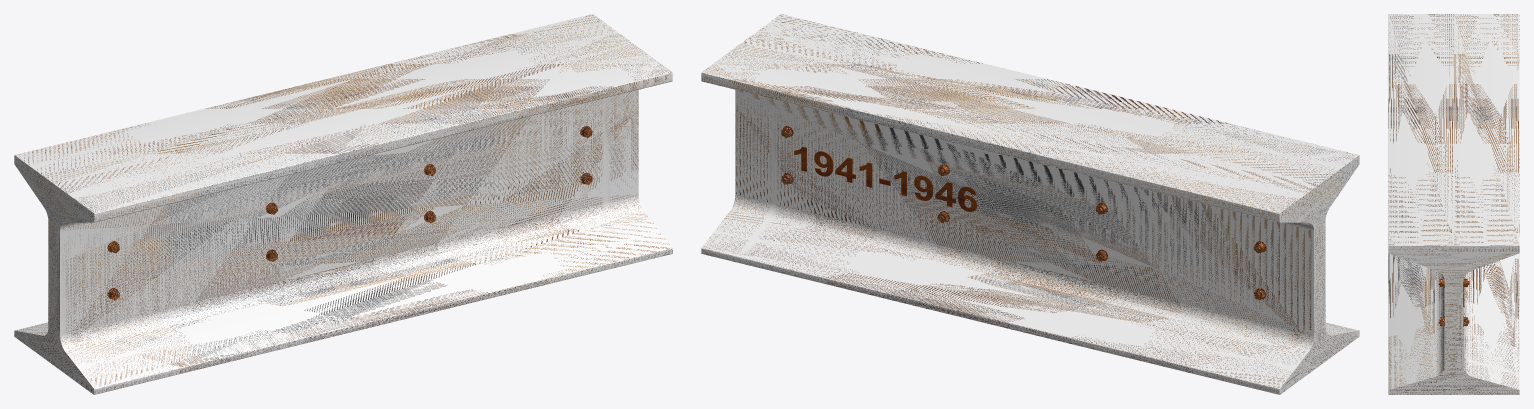
The picture shows the model from 3 angles, left to right: view 1: azimuth 30°, elevation 25°; view 2: azimuth 150°, elevation 25°; view 3: azimuth 270°, elevation 25°; orthographic projection. The views are drawn at different scales.
Parts seen in each view (by area): view 1: mesh15_mesh15-geometry; view 2: mesh15_mesh15-geometry; view 3: mesh15_mesh15-geometry.
Part boxes in pixels (left/top/right/bottom): mesh15_mesh15-geometry: left=14, top=14, right=672, bottom=394; mesh15_mesh15-geometry: left=701, top=14, right=1359, bottom=394; mesh15_mesh15-geometry: left=1388, top=14, right=1519, bottom=394.
Size of the model in its own units: 0.9335 by 0.28 by 0.224.
